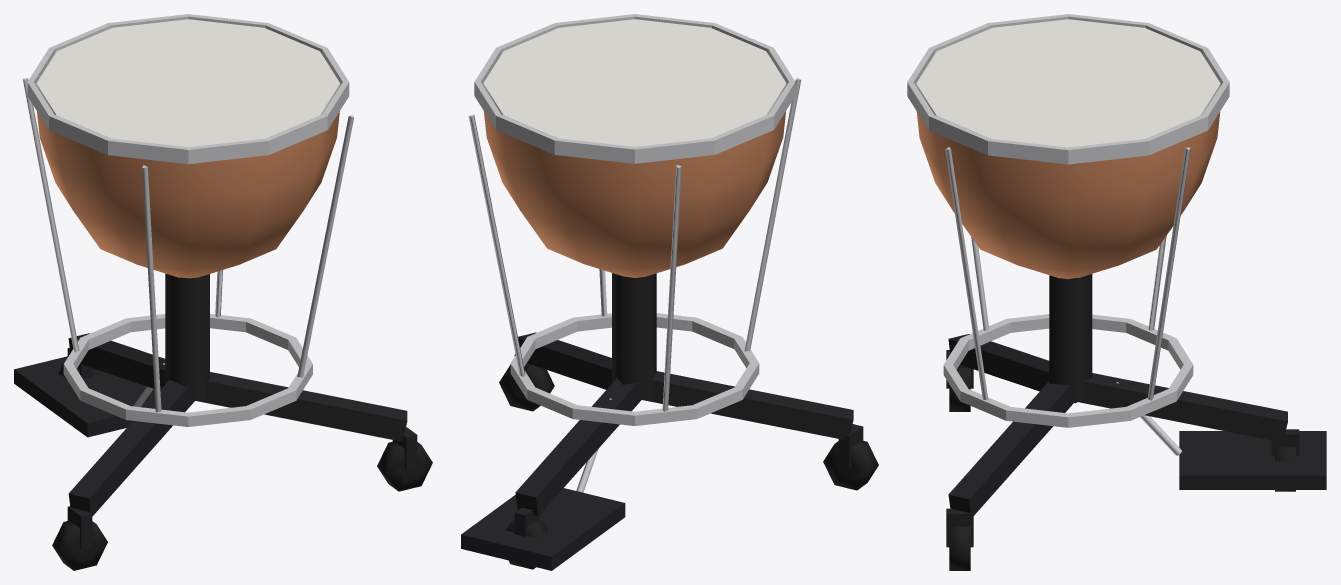
Rendered from timpani-23-low.glb.
The picture shows the model from 3 angles, left to right: view 1: azimuth 30°, elevation 25°; view 2: azimuth 150°, elevation 25°; view 3: azimuth 270°, elevation 25°; orthographic projection.
Visible parts, largest first — view 1: head, copper, frame, metal, rubber; view 2: head, frame, copper, metal, rubber; view 3: head, frame, copper, metal, rubber.
Part boxes in pixels (bbox=[...]): head: bbox=[36, 19, 340, 147]; copper: bbox=[37, 111, 339, 278]; frame: bbox=[14, 273, 417, 549]; metal: bbox=[22, 14, 353, 426]; rubber: bbox=[52, 363, 432, 570]; head: bbox=[483, 19, 786, 146]; frame: bbox=[461, 273, 863, 570]; copper: bbox=[483, 111, 785, 277]; metal: bbox=[468, 14, 801, 492]; rubber: bbox=[499, 365, 878, 569]; head: bbox=[916, 19, 1220, 147]; frame: bbox=[946, 274, 1326, 547]; copper: bbox=[916, 111, 1220, 278]; metal: bbox=[907, 14, 1229, 455]; rubber: bbox=[949, 368, 1295, 570].
Size of the model in its own units: 0.8138 by 0.8463 by 0.7964.
